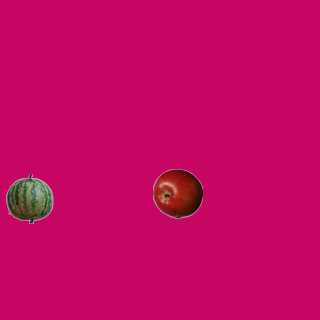Apple Braeburn: (152, 168, 202, 218)
Watermelon: (4, 173, 54, 223)
